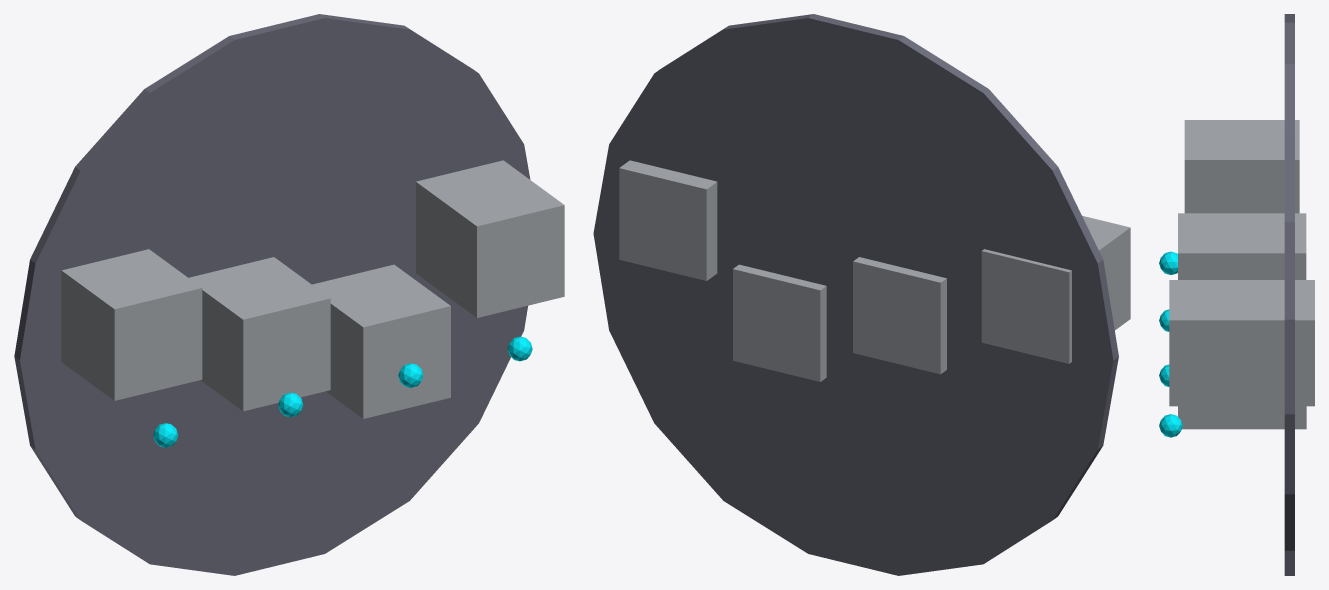
The model's file is 02_local_prop_cluster.glb.
3 renders of one model, left to right at view 1: azimuth 30°, elevation 25°; view 2: azimuth 150°, elevation 25°; view 3: azimuth 270°, elevation 25°, orthographic. The views are drawn at different scales.
Visible parts, largest first — view 1: scatter_base, tech_crate_3, tech_crate_0, tech_crate_1, tech_crate_2; view 2: scatter_base, tech_crate_0, tech_crate_3, tech_crate_2, tech_crate_1; view 3: tech_crate_3, tech_crate_0, tech_crate_1, scatter_base, tech_crate_2, status_light_3, status_light_0.
Part boxes in pixels (bbox=[...]): scatter_base: bbox=[14, 14, 530, 575]; tech_crate_3: bbox=[416, 160, 564, 317]; tech_crate_0: bbox=[61, 249, 202, 400]; tech_crate_1: bbox=[189, 257, 330, 411]; tech_crate_2: bbox=[312, 264, 450, 418]; scatter_base: bbox=[593, 14, 1118, 575]; tech_crate_0: bbox=[981, 215, 1130, 363]; tech_crate_3: bbox=[619, 160, 717, 280]; tech_crate_2: bbox=[733, 264, 826, 381]; tech_crate_1: bbox=[853, 257, 946, 374]; tech_crate_3: bbox=[1169, 280, 1314, 406]; tech_crate_0: bbox=[1184, 120, 1299, 213]; tech_crate_1: bbox=[1178, 213, 1306, 279]; scatter_base: bbox=[1284, 14, 1294, 575]; tech_crate_2: bbox=[1178, 406, 1306, 429]; status_light_3: bbox=[1159, 414, 1182, 437]; status_light_0: bbox=[1159, 251, 1177, 274].
Bounding box in the file's own units: 1.9 × 1.87 × 0.5249.
